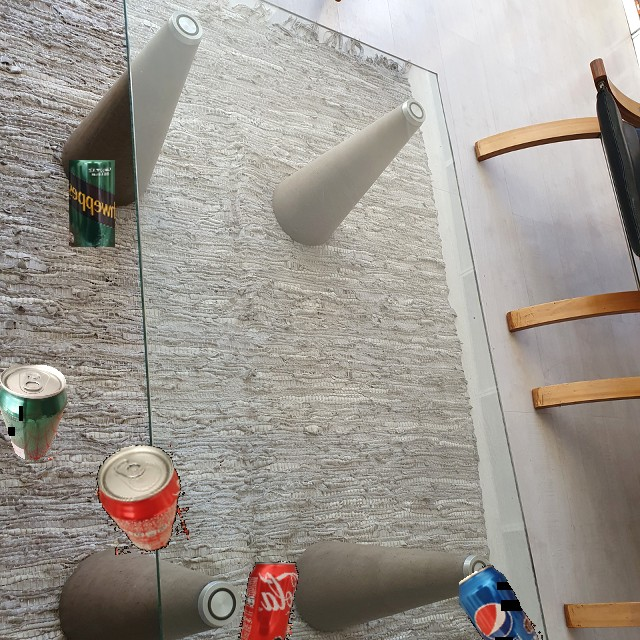coca cola: (87, 445, 189, 555), (235, 561, 304, 640)
pepsi: (459, 565, 549, 640)
schweppes: (0, 365, 67, 461), (69, 160, 115, 247)
